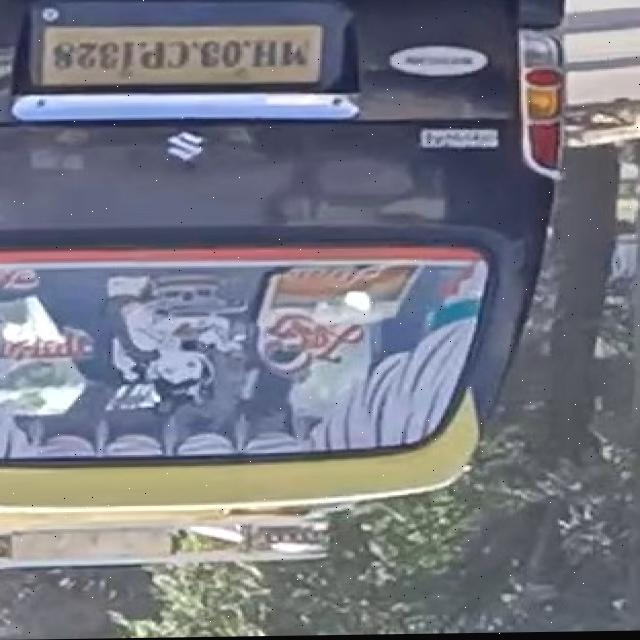plate: (38, 15, 325, 97)
